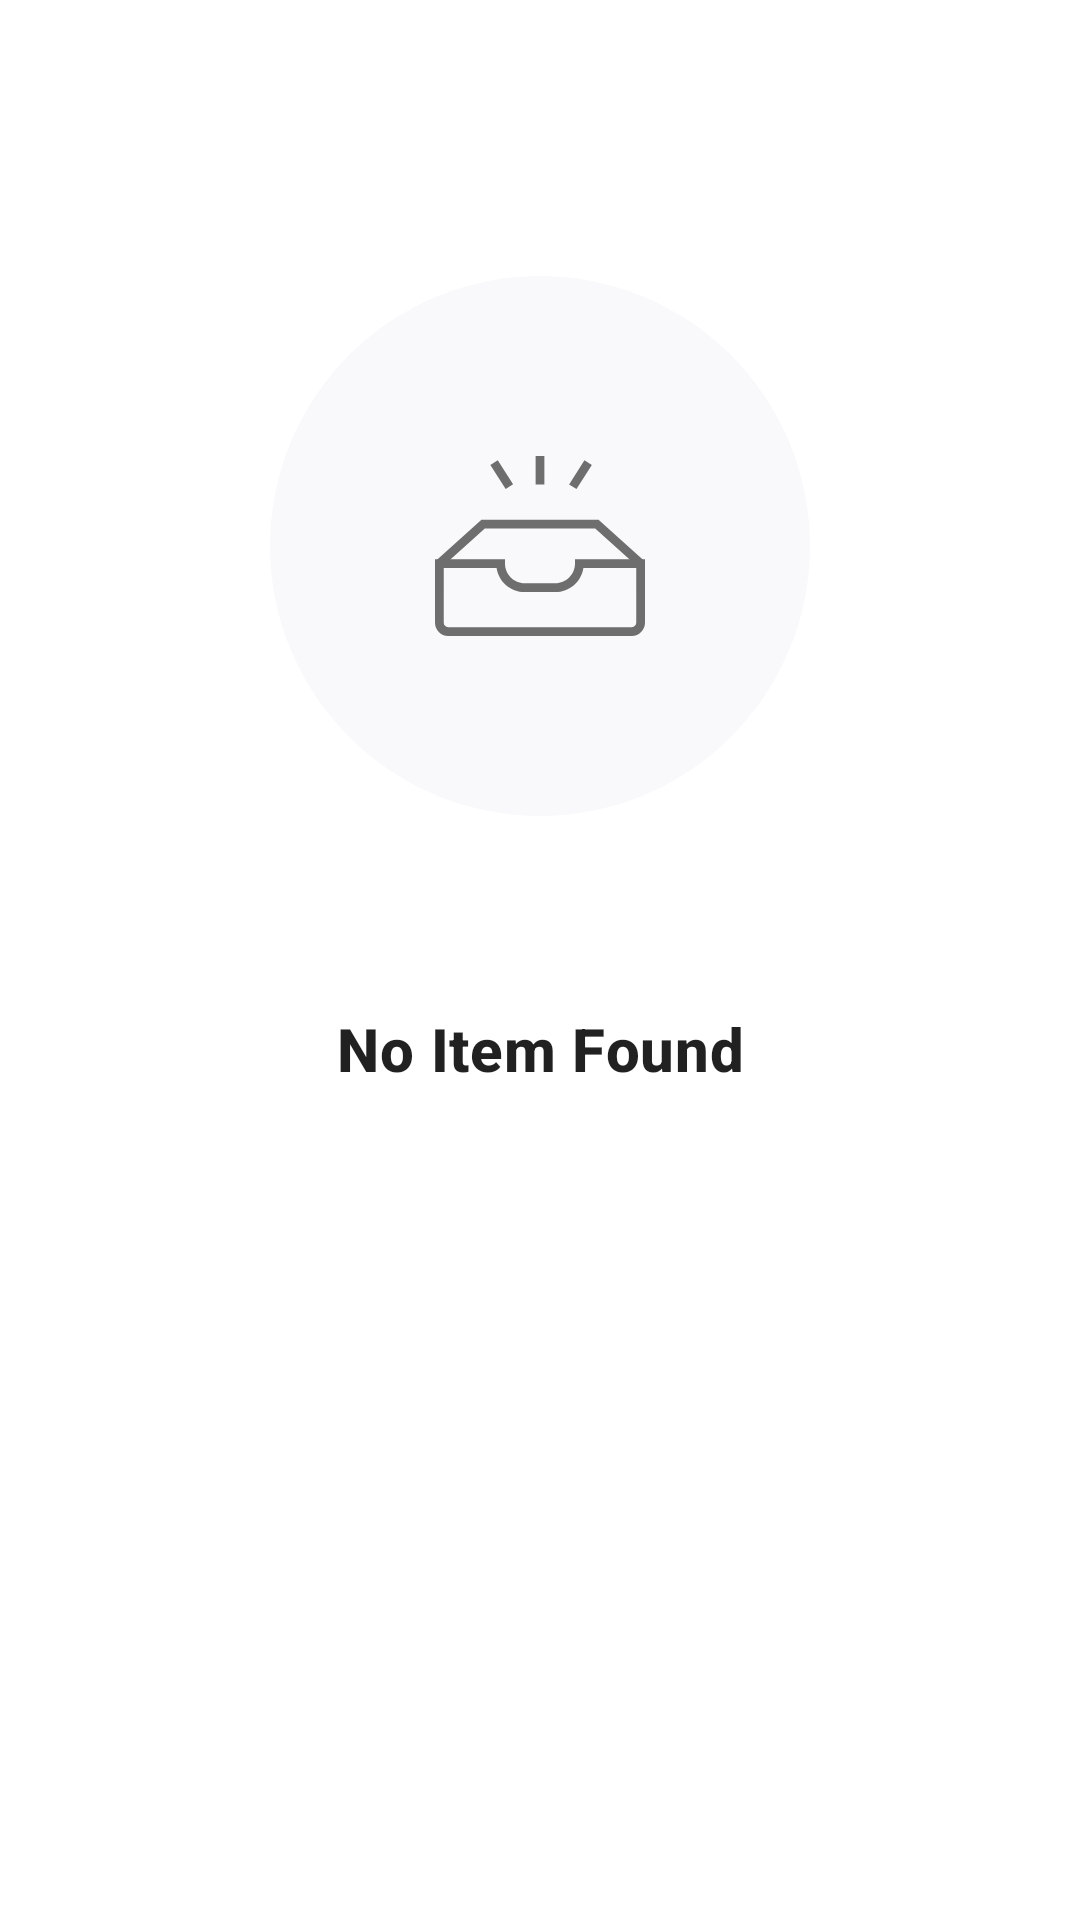

Locate icon controls on the screen. Image size 1080×1920, boxes as (x1, y1, x2, y2).
no package: (435, 456, 645, 636)
